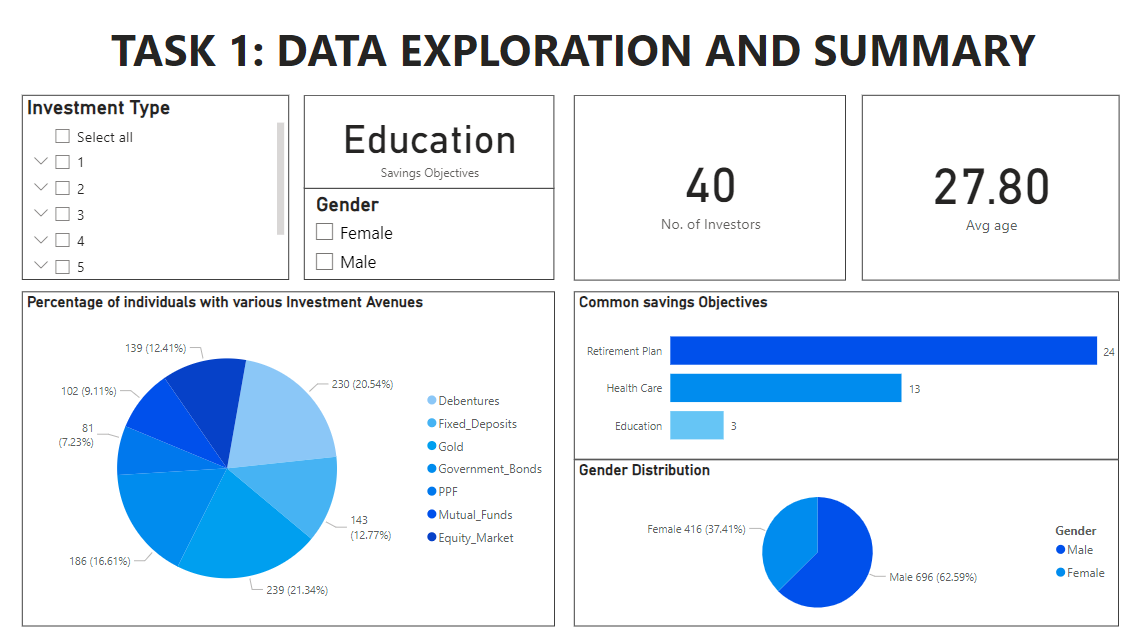

The dashboard page shown, as its layout file describes it:
{"tool":"powerbi","page":{"name":"Page 1","canvas":[1280,720],"ordinal":0},"visuals":[{"type":"textbox","box":[55,16.7,1168.3,90],"z":0},{"type":"card","fields":{"Values":["Data_set 2.Avg age"]},"box":[960,106,286,206],"z":1000},{"type":"pieChart","title":"Percentage of individuals with various Investment Avenues","fields":{"Y":["Sum(Data_set 2.Debentures)","Sum(Data_set 2.Fixed_Deposits)","Sum(Data_set 2.Gold)","Sum(Data_set 2.Government_Bonds)","Sum(Data_set 2.PPF)","Sum(Data_set 2.Mutual_Funds)","Sum(Data_set 2.Equity_Market)"]},"box":[26.7,325,591.7,371.7],"z":2000},{"type":"barChart","title":"Common savings Objectives","fields":{"Category":["Data_set 2.What are your savings objectives?"],"Y":["CountNonNull(Data_set 2.Purpose)"]},"box":[640,325,605,186.7],"z":3000},{"type":"slicer","fields":{"Values":["Data_set 2.gender"]},"box":[340,210,278,102],"z":4000},{"type":"pieChart","title":"Gender Distribution","fields":{"Y":["Sum(Data_set 2.age)"],"Category":["Data_set 2.gender"]},"box":[640,511.7,605,185],"z":5000},{"type":"slicer","title":"Investment Type","fields":{"Values":["Data_set 2.Debentures","Data_set 2.Equity_Market","Data_set 2.Fixed_Deposits","Data_set 2.Gold","Data_set 2.Government_Bonds","Data_set 2.Mutual_Funds","Data_set 2.PPF"]},"box":[26.7,106.7,296.7,205],"z":6000},{"type":"card","fields":{"Values":["Min(Data_set 2.What are your savings objectives?)"]},"box":[340,106,278,104],"z":7000},{"type":"card","fields":{"Values":["Data_set 2.Count of Avenue total for Avenue"]},"box":[640,106,302,206],"z":8000}]}

Visuals, with their boxes in screenshot pixels (x1, y1, x2, y2), scaled from the page's 1280x720 canvas onto the 1148x644 screenshot:
textbox: crop(49, 15, 1097, 95)
card - Data_set 2.Avg age: crop(861, 95, 1118, 279)
"Percentage of individuals with various Investment Avenues" pieChart: crop(24, 291, 555, 623)
"Common savings Objectives" barChart: crop(574, 291, 1117, 458)
slicer - Data_set 2.gender: crop(305, 188, 554, 279)
"Gender Distribution" pieChart: crop(574, 458, 1117, 623)
"Investment Type" slicer: crop(24, 95, 290, 279)
card - Min(Data_set 2.What are your savings objectives?): crop(305, 95, 554, 188)
card - Data_set 2.Count of Avenue total for Avenue: crop(574, 95, 845, 279)
